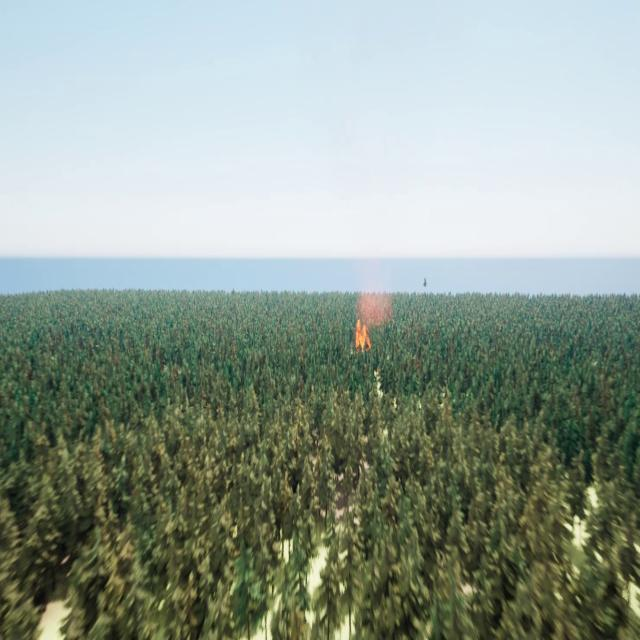fire: (355, 316, 370, 348)
smoke: (358, 276, 393, 327)
